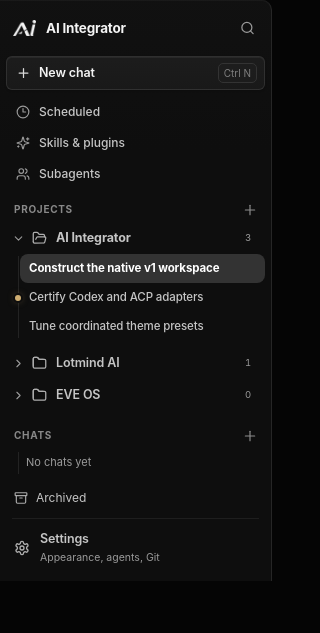
Test: TaskSidebar › reveals nested chats when expanding another project
Click the button named "Expand Lotmind AI": {"x": 18, "y": 363} [6,356,30,370]
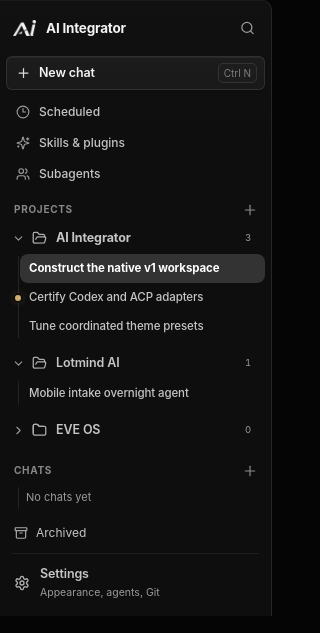
Expected: the button "Mobile intake overnight agent" is shown, [20,379,265,408]
